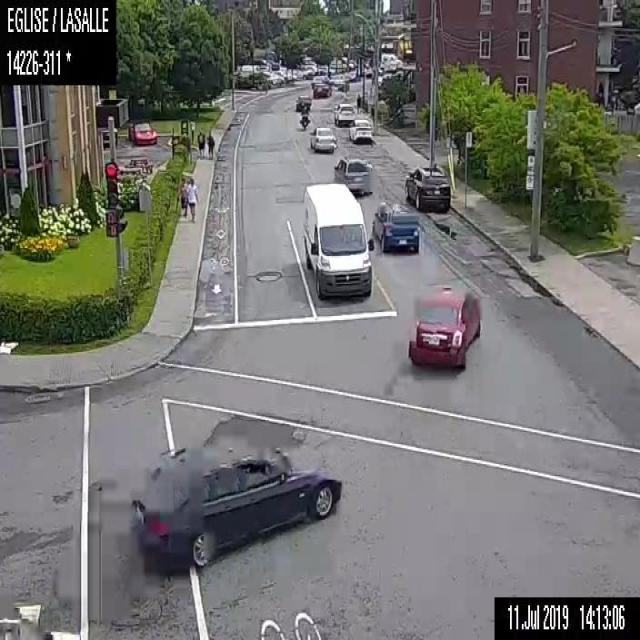pedestrian: (187, 176, 198, 224), (177, 174, 187, 219), (204, 127, 215, 161), (198, 128, 205, 161), (355, 92, 361, 115)
vehicle: (129, 436, 344, 567), (300, 182, 374, 298), (406, 280, 482, 371), (371, 196, 418, 254), (403, 164, 450, 213), (333, 155, 372, 195), (127, 119, 156, 144), (310, 125, 335, 152), (347, 118, 372, 140), (334, 102, 354, 126), (312, 80, 330, 97), (298, 105, 309, 129), (295, 94, 311, 109), (298, 66, 314, 79)
